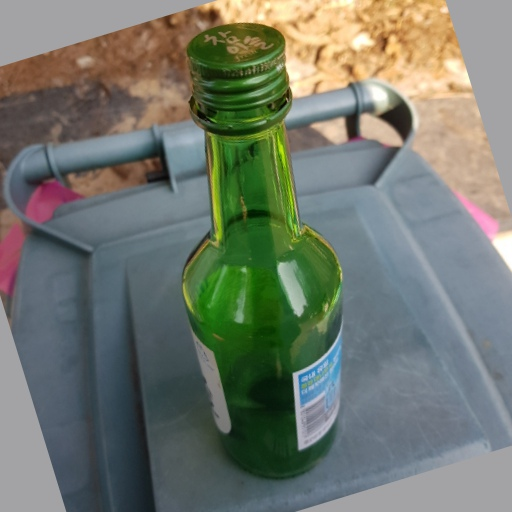Glass_0: (168, 23, 345, 480)
